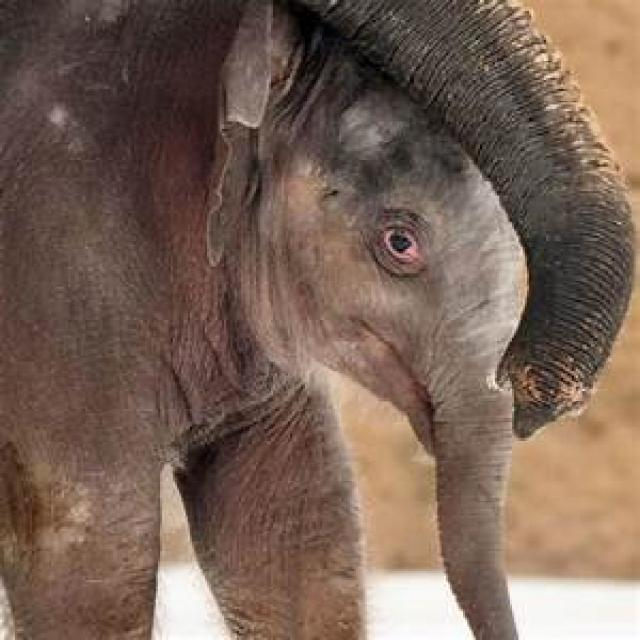elephant: (288, 0, 638, 442)
